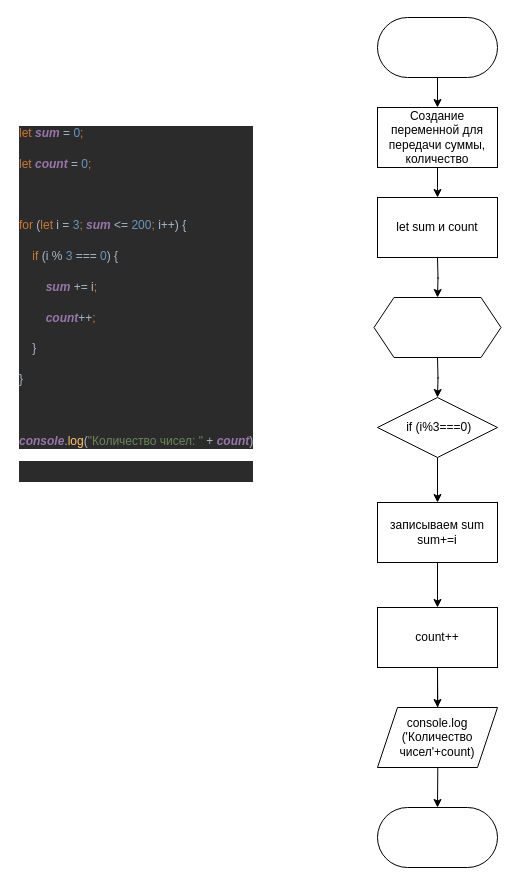
The diagram is 518 pixels wide and 885 high, and some of its shapes have lost their labels. The centre of each missing label's shape, as x and y in pixels:
"конец" goes at pixel 437 837.
"начало" goes at pixel 437 47.
"цикл for(let i = 3;sum<=200;i++)" goes at pixel 437 327.
